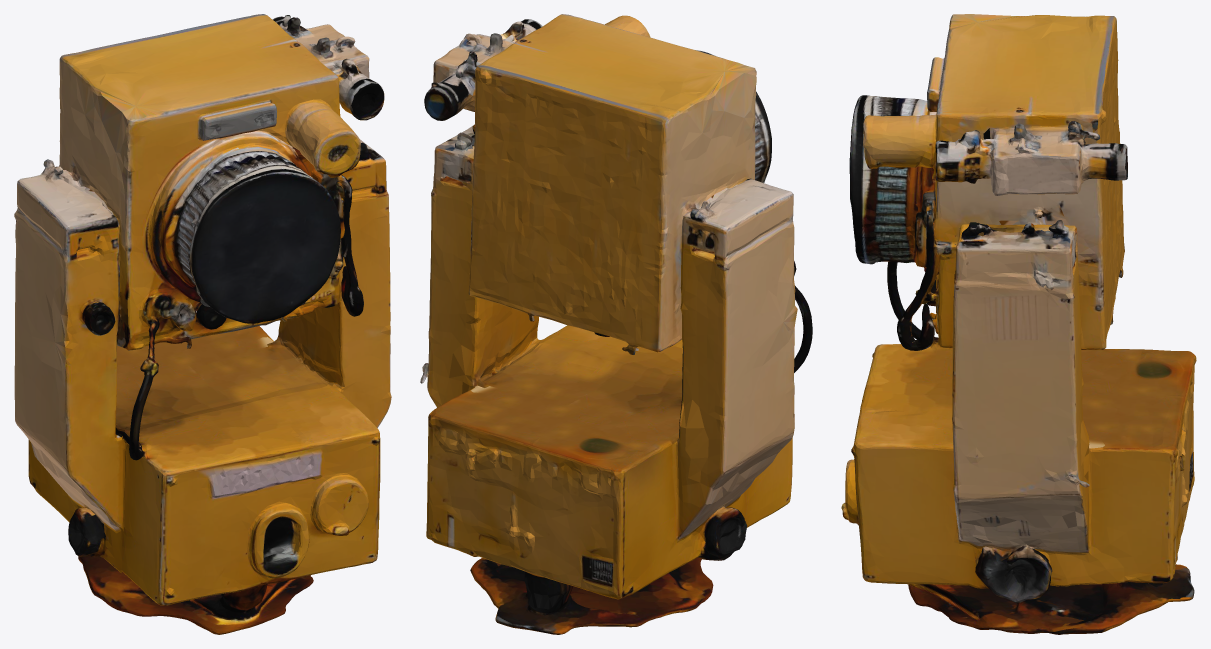
3 views of the same model, side by side, from view 1: azimuth 30°, elevation 25°; view 2: azimuth 150°, elevation 25°; view 3: azimuth 270°, elevation 25° (orthographic). The views are drawn at different scales.
Parts seen in each view (by area): view 1: textured_mesh.obj; view 2: textured_mesh.obj; view 3: textured_mesh.obj.
Part boxes in pixels (x1=…): textured_mesh.obj: x1=14, y1=14, x2=391, y2=634; textured_mesh.obj: x1=420, y1=14, x2=812, y2=634; textured_mesh.obj: x1=841, y1=14, x2=1196, y2=634.
Size of the model in its own units: 1.28 by 1.94 by 1.18.
Materials: 1 (1 with a texture image).
